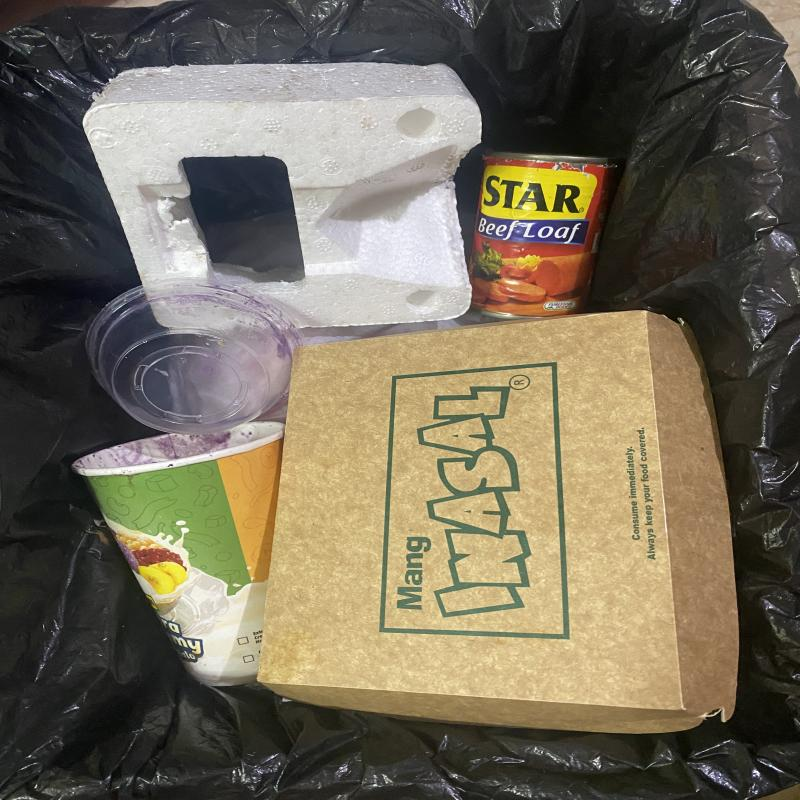aluminum: (470, 153, 613, 317)
cardboard: (255, 311, 741, 737), (71, 420, 286, 689)
plastic container: (84, 278, 302, 436)
styrofoam containers: (82, 62, 483, 336)
